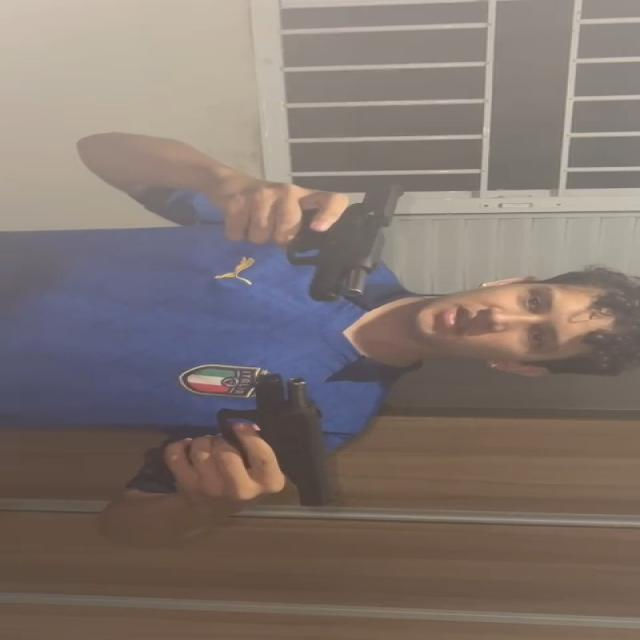gun: (215, 368, 338, 507), (275, 187, 407, 301)
